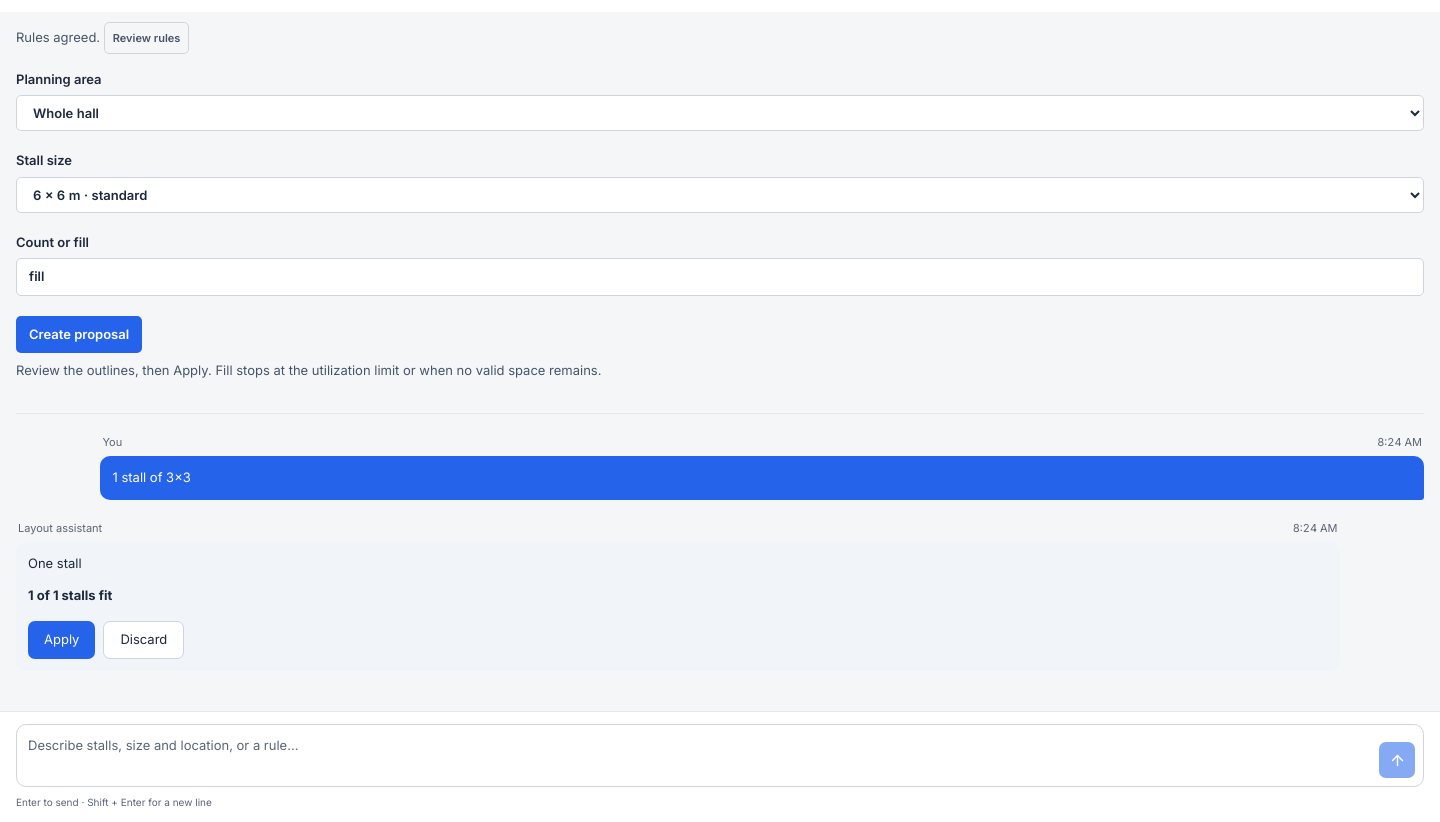
Test case: AI chat › rechecks and applies through the existing store
The width and height of the screenshot is (1440, 822).
(page scrolled)
Click the button with class "chat-apply": (62, 640) [28,621,95,659]
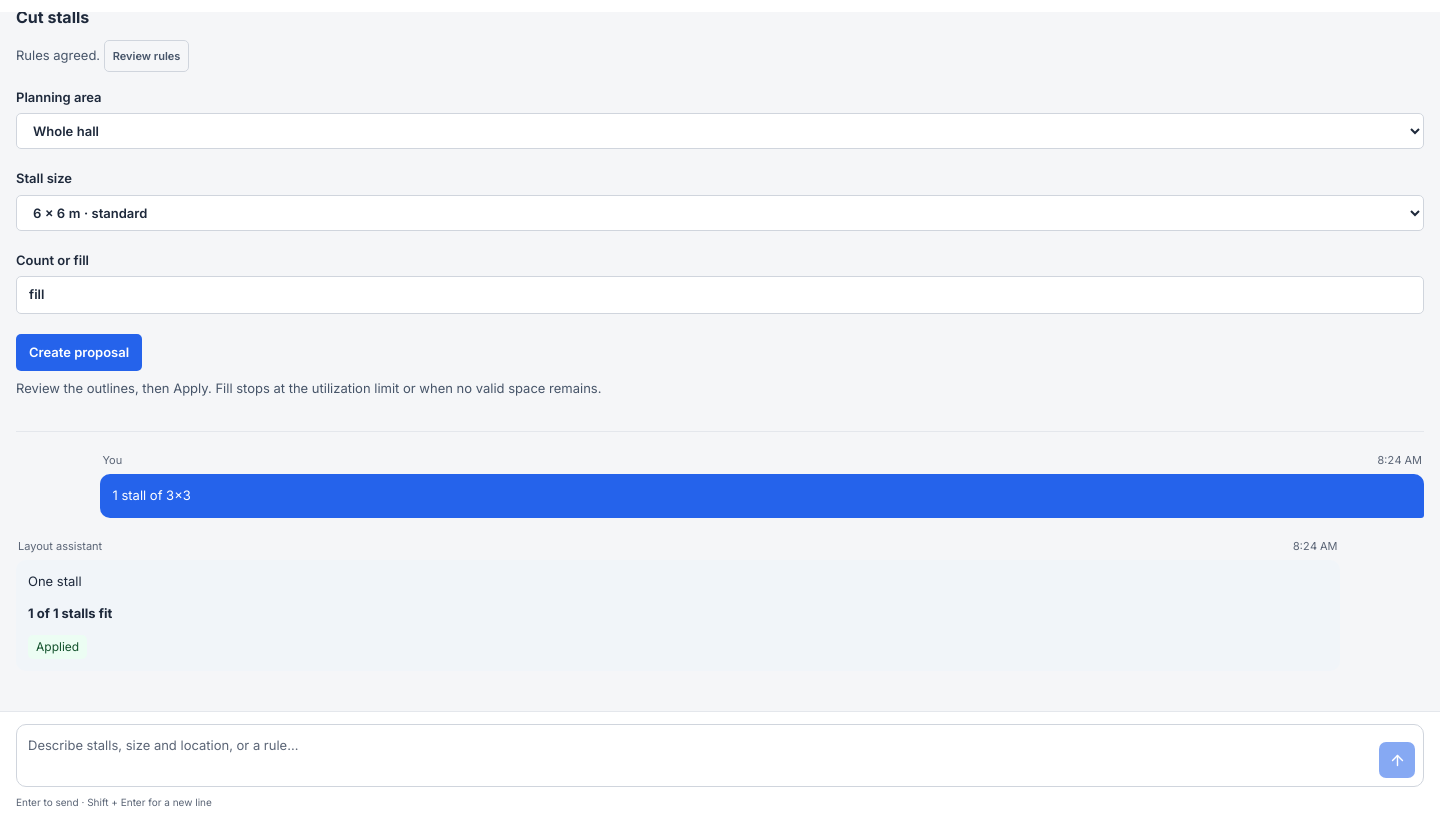
Now the text "Applied" is shown, box [28,635,87,659]
